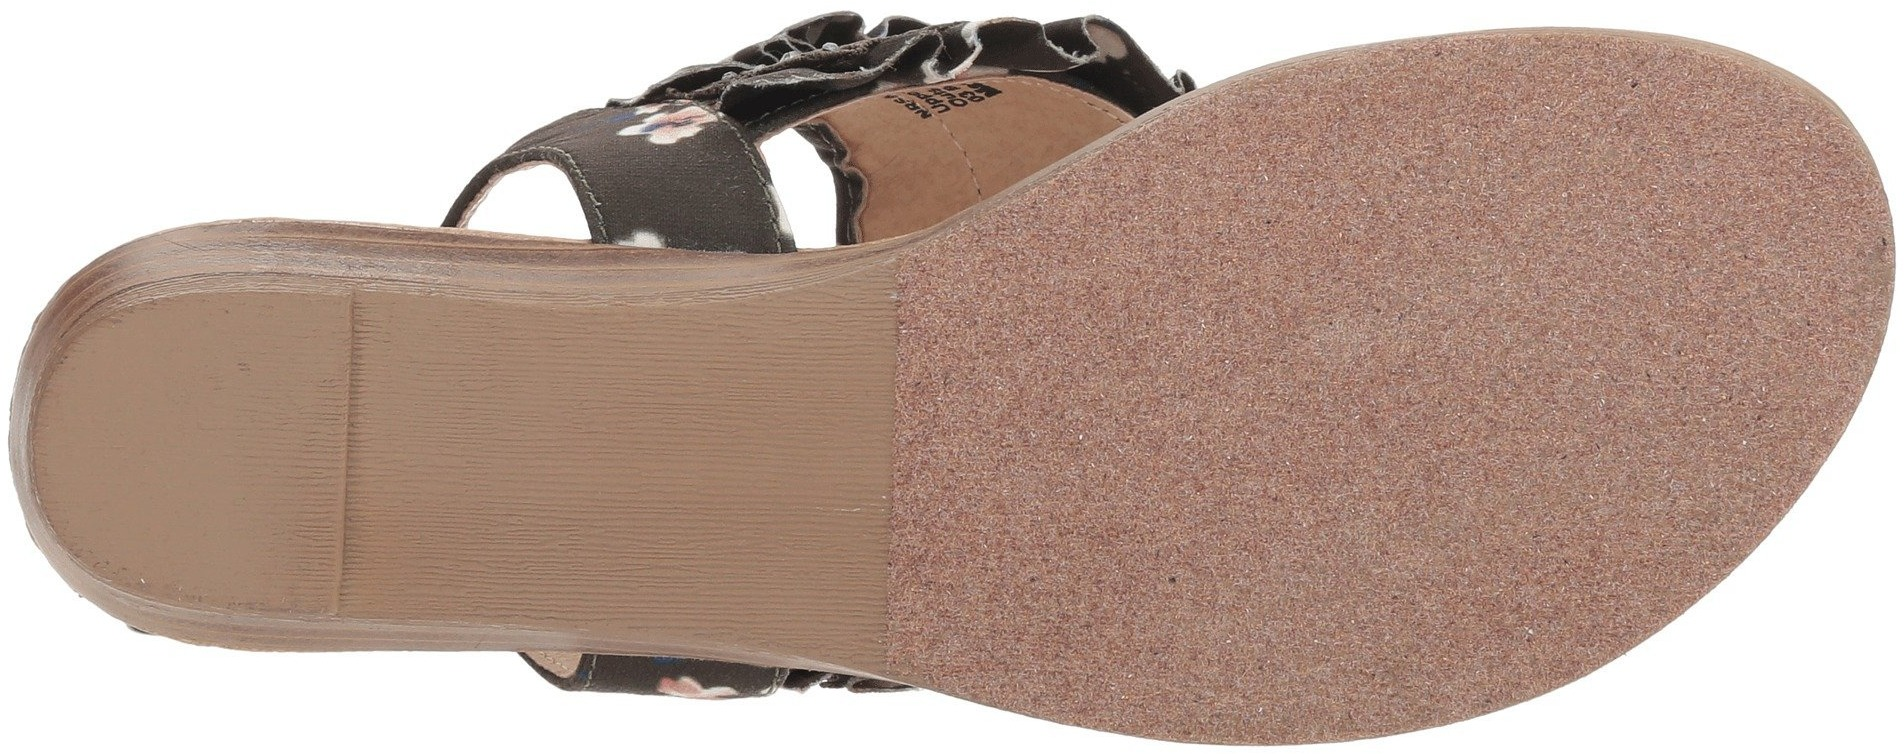other: (1292, 78, 1766, 517), (903, 263, 1322, 667), (346, 308, 665, 627), (1191, 415, 1506, 703), (166, 359, 346, 538), (693, 319, 865, 480), (690, 480, 865, 636)
